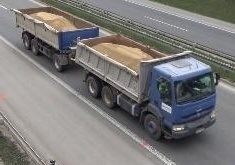truck: (15, 6, 219, 141)
